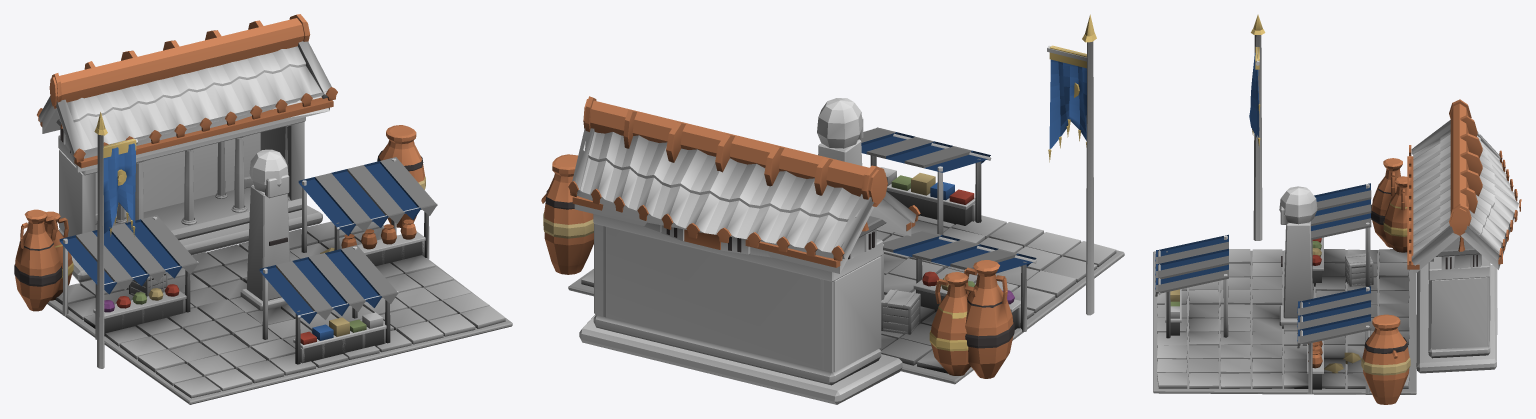
File: agora-l1.glb
3 views of the same model, side by side, from view 1: azimuth 30°, elevation 25°; view 2: azimuth 150°, elevation 25°; view 3: azimuth 270°, elevation 25° (orthographic). The views are drawn at different scales.
Visible parts, largest first — view 1: agora-l1; view 2: agora-l1; view 3: agora-l1.
Part boxes in pixels (box(x1,y1,x2,y2)): agora-l1: box(14, 14, 512, 404); agora-l1: box(541, 14, 1124, 404); agora-l1: box(1153, 14, 1521, 404).
Bounding box in the file's own units: 1.45 × 0.9367 × 1.32.
